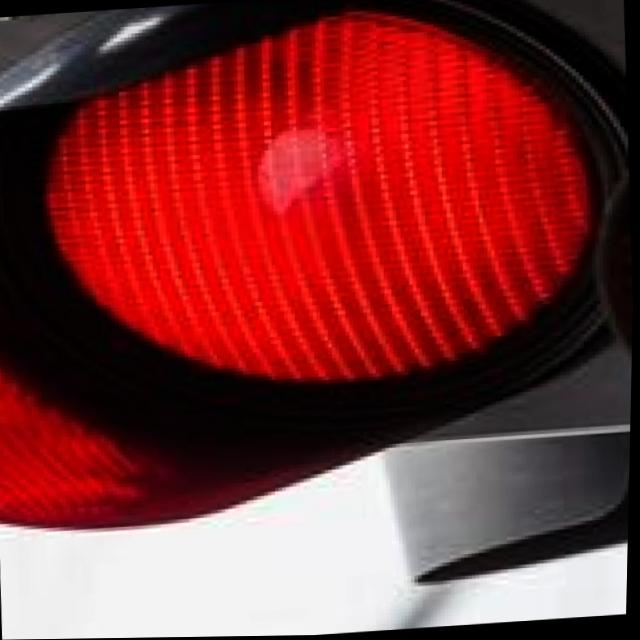red_light: (0, 45, 626, 538)
